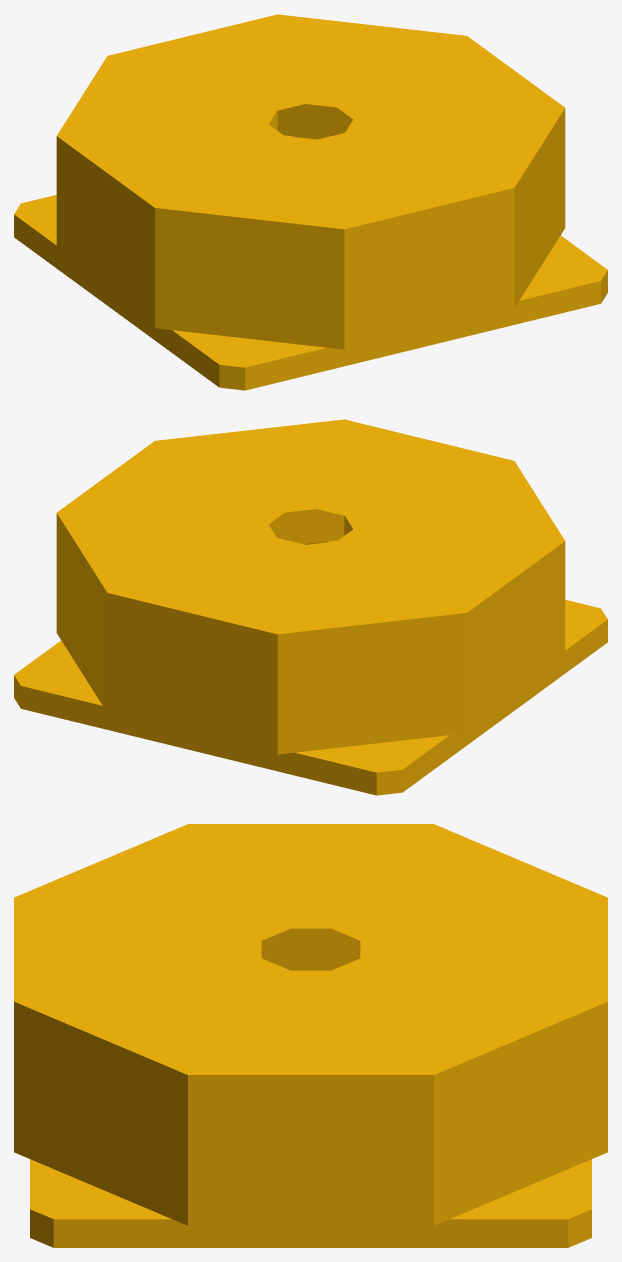
Rendered from modular_engine_clutch_housing_3x3.dae.
3 views of the same model, one above another, from view 1: azimuth 30°, elevation 25°; view 2: azimuth 150°, elevation 25°; view 3: azimuth 270°, elevation 25° (orthographic). The views are drawn at different scales.
Visible parts, largest first — view 1: Cube.002; view 2: Cube.002; view 3: Cube.002.
Part boxes in pixels (<box>): Cube.002: <box>14,14,607,390</box>; Cube.002: <box>14,419,607,795</box>; Cube.002: <box>14,824,607,1247</box>.
Bounding box in the file's own units: 0.75 × 0.75 × 0.25.
